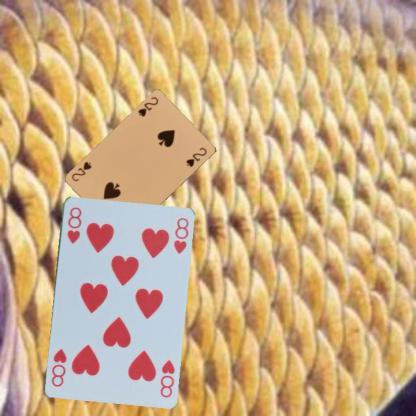2s: (135, 94, 160, 119)
8h: (157, 357, 176, 399), (64, 204, 83, 244)
